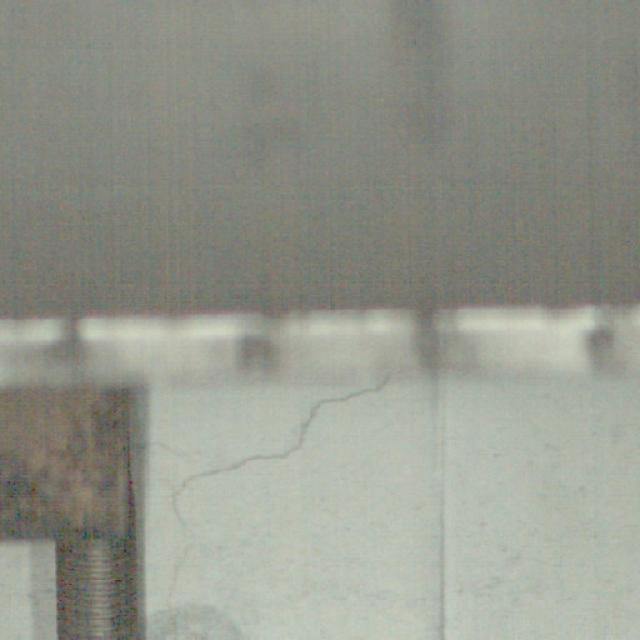Network: (158, 382, 404, 640)
